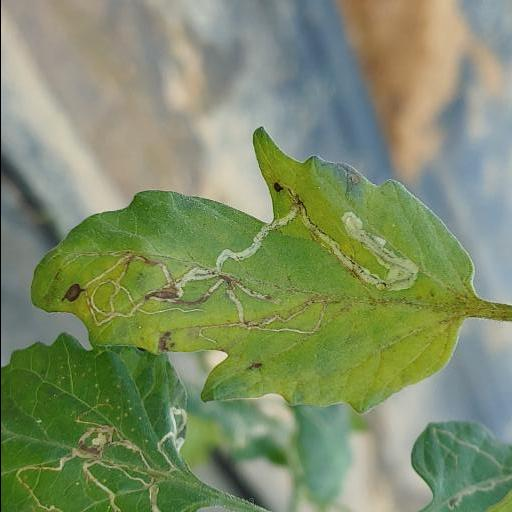disease_tomato: (30, 124, 473, 416)
